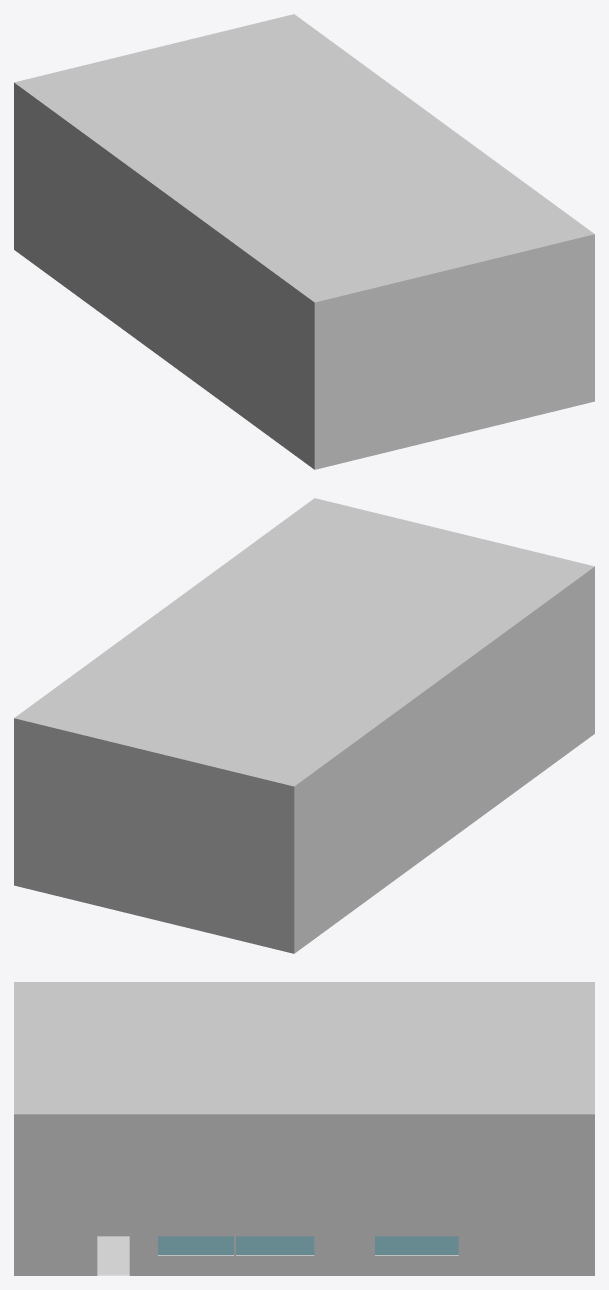
The model's file is postofficetest1.fbx.
3 views of the same model, one above another, from view 1: azimuth 30°, elevation 25°; view 2: azimuth 150°, elevation 25°; view 3: azimuth 270°, elevation 25° (orthographic). The views are drawn at different scales.
Parts seen in each view (by area): view 1: Cube.001; view 2: Cube.001; view 3: Cube.001.
Part boxes in pixels (left/top/right/bottom): Cube.001: left=14, top=14, right=594, bottom=469; Cube.001: left=14, top=498, right=594, bottom=953; Cube.001: left=14, top=982, right=594, bottom=1275.
Bounding box in the file's own units: 1963 × 1120 × 3648.
